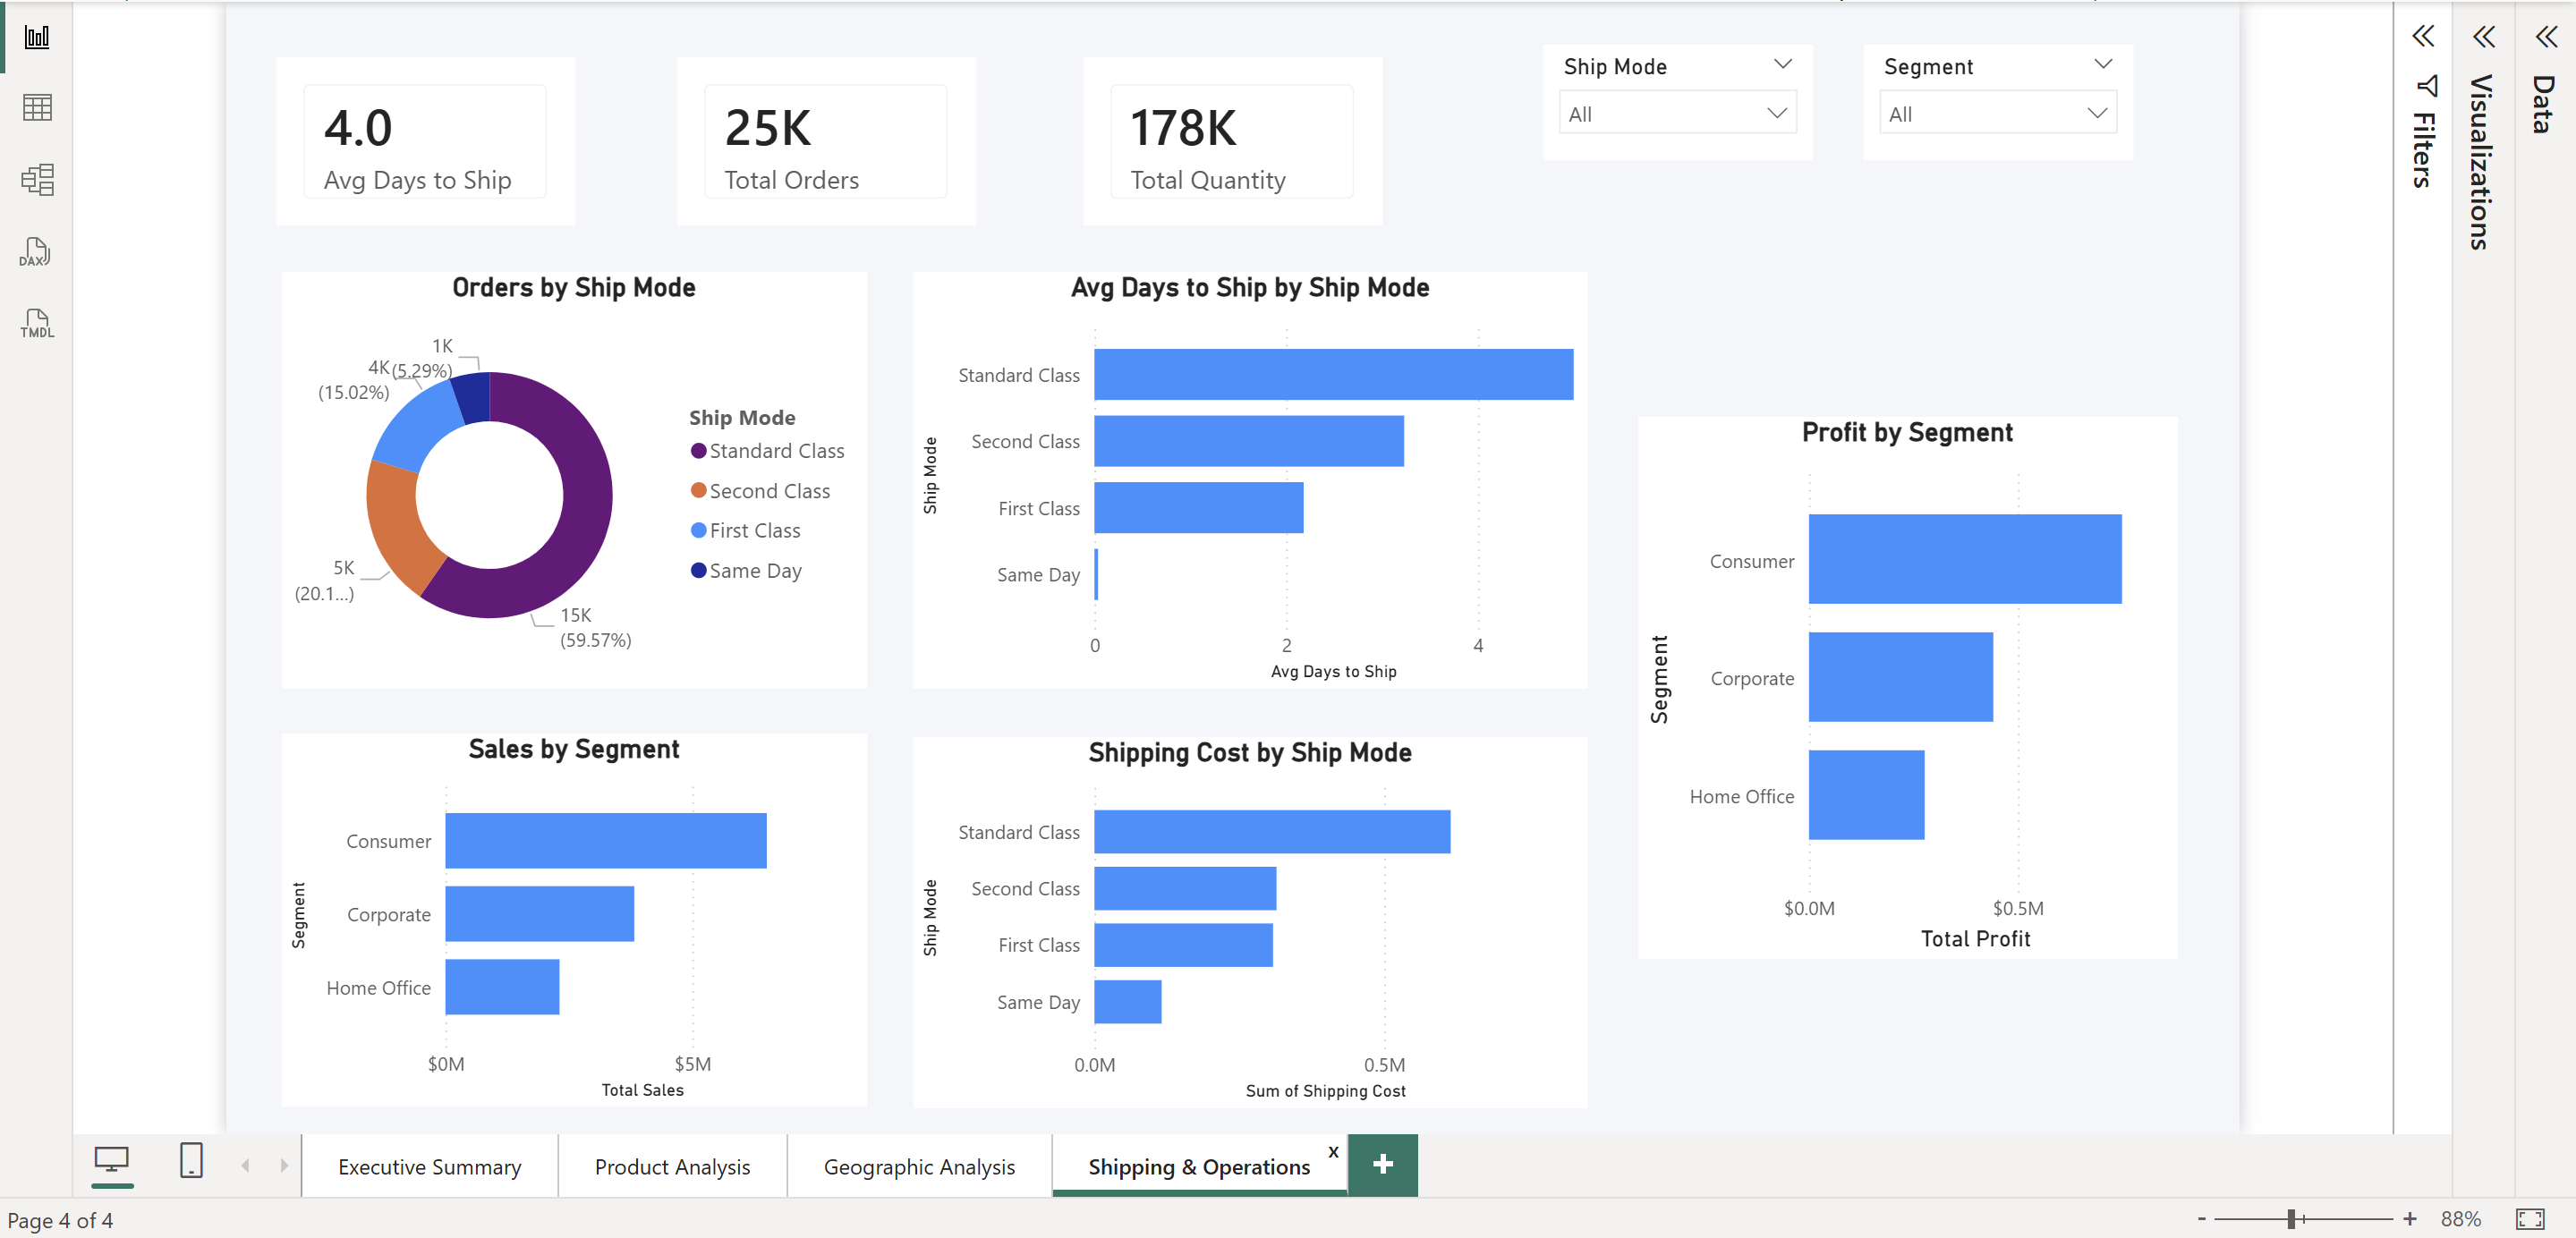

What the dashboard file says about the page in this screenshot:
{"tool":"powerbi","page":{"name":"Shipping & Operations","canvas":[1280,720],"ordinal":3},"visuals":[{"type":"donutChart","title":"Orders by Ship Mode","fields":{"Category":["Orders.Ship Mode"],"Y":["_Measures.Total Orders"]},"box":[35.2,171.5,372.1,264.9],"z":0},{"type":"clusteredBarChart","fields":{"Category":["Orders.Ship Mode"],"Y":["_Measures.Avg Days to Ship"]},"box":[436.4,171.5,428.7,264.9],"z":1},{"type":"clusteredBarChart","title":"Sales by Segment","fields":{"Category":["Orders.Segment"],"Y":["_Measures.Total Sales"]},"box":[35.2,465.5,372.1,237.3],"z":2},{"type":"clusteredBarChart","title":" Profit by Segment","fields":{"Category":["Orders.Segment"],"Y":["_Measures.Total Profit"]},"box":[897.2,263.3,343,344.5],"z":3},{"type":"clusteredBarChart","title":"Shipping Cost by Ship Mode","fields":{"Category":["Orders.Ship Mode"],"Y":["Sum(Orders.Shipping Cost)"]},"box":[436.4,467,428.7,235.8],"z":4},{"type":"cardVisual","fields":{"Data":["_Measures.Avg Days to Ship"]},"box":[32.2,35.2,189.9,107.2],"z":5},{"type":"cardVisual","fields":{"Data":["_Measures.Total Orders"]},"box":[286.3,35.2,189.9,107.2],"z":6},{"type":"cardVisual","fields":{"Data":["_Measures.Total Quantity"]},"box":[545.1,35.2,189.9,107.2],"z":7},{"type":"slicer","fields":{"Values":["Orders.Ship Mode"]},"box":[837.5,27.6,171.5,73.5],"z":8},{"type":"slicer","fields":{"Values":["Orders.Segment"]},"box":[1041.1,27.6,171.5,73.5],"z":9}]}

Visuals, with their boxes on the page's 1280x720 design canvas (x1, y1, x2, y2). These are canvas units, not pixel positions in the 2576x1238 screenshot, which may show the page scaled, cropped or inside an application window:
"Orders by Ship Mode" donutChart: rect(35, 172, 407, 436)
clusteredBarChart - Orders.Ship Mode x _Measures.Avg Days to Ship: rect(436, 172, 865, 436)
"Sales by Segment" clusteredBarChart: rect(35, 466, 407, 703)
" Profit by Segment" clusteredBarChart: rect(897, 263, 1240, 608)
"Shipping Cost by Ship Mode" clusteredBarChart: rect(436, 467, 865, 703)
cardVisual - _Measures.Avg Days to Ship: rect(32, 35, 222, 142)
cardVisual - _Measures.Total Orders: rect(286, 35, 476, 142)
cardVisual - _Measures.Total Quantity: rect(545, 35, 735, 142)
slicer - Orders.Ship Mode: rect(838, 28, 1009, 101)
slicer - Orders.Segment: rect(1041, 28, 1213, 101)
